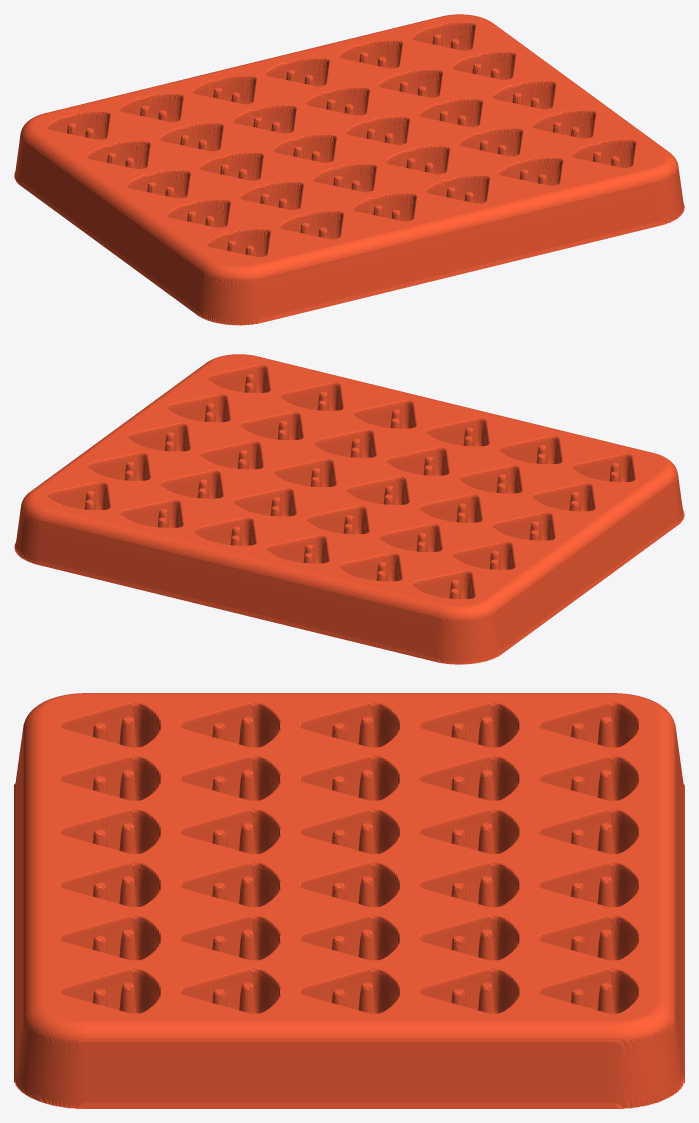
File: mold.glb
3 renders of one model, top to bottom at view 1: azimuth 30°, elevation 25°; view 2: azimuth 150°, elevation 25°; view 3: azimuth 270°, elevation 25°, orthographic. The views are drawn at different scales.
Visible parts, largest first — view 1: geometry_0; view 2: geometry_0; view 3: geometry_0.
Boxes of the visible parts, left/top/right/bottom form: geometry_0: left=14, top=14, right=684, bottom=325; geometry_0: left=14, top=354, right=684, bottom=664; geometry_0: left=14, top=693, right=684, bottom=1108.
Size of the model in its own units: 0.104 by 0.0105 by 0.0842.
